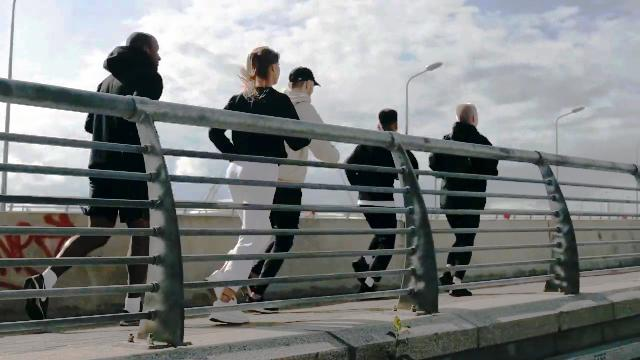berlari: (25, 30, 163, 332), (208, 39, 308, 329), (430, 106, 500, 298), (344, 100, 408, 290)
